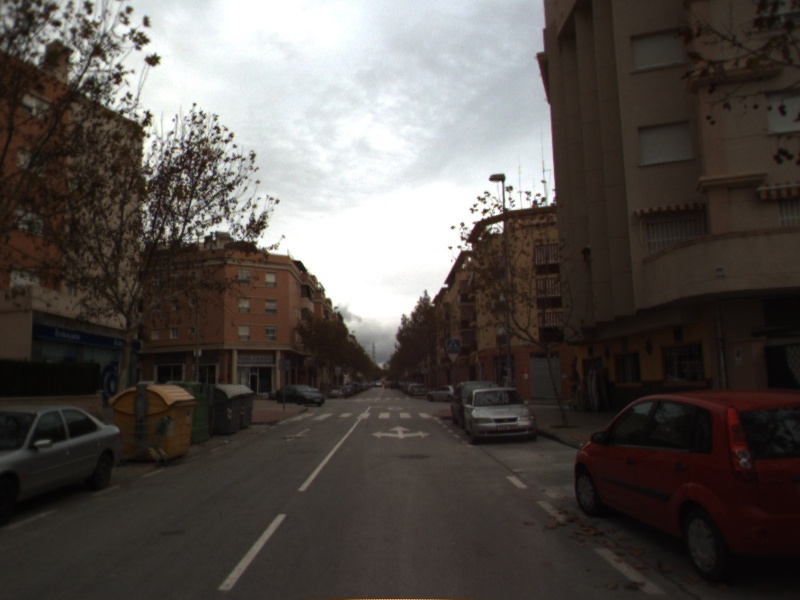STRAIGHT_LEFT_RIGHT: (369, 423, 432, 441)
